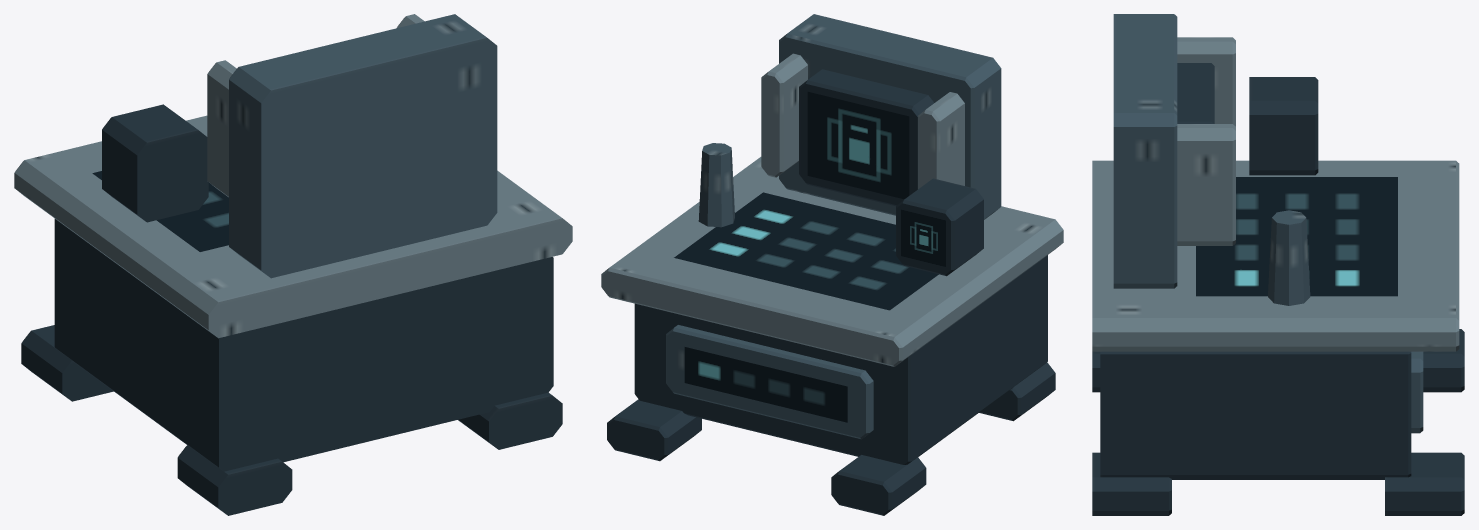
File: epp_service_station.obj
3 views of the same model, side by side, from view 1: azimuth 30°, elevation 25°; view 2: azimuth 150°, elevation 25°; view 3: azimuth 270°, elevation 25° (orthographic). The views are drawn at different scales.
Parts seen in each view (by area): view 1: tool_base, equipment_backboard, service_deck, diagnostic_pod, foot_1_12, foot_12_12, foot_1_1, charging_clamp_3_6, service_mat; view 2: service_deck, tool_base, service_mat, equipment_backboard, pack_wiring_schematic, lower_tool_drawer, tool_markers, backpack_dock, diagnostic_pod, charging_clamp_11_3, foot_1_1, foot_12_1 (+4 smaller); view 3: tool_base, service_deck, service_mat, equipment_backboard, charging_clamp_11_3, diagnostic_pod, foot_12_1, probe_holder, foot_12_12, charging_clamp_3_6, backpack_dock, foot_1_1 (+1 smaller).
Part boxes in pixels (x1=…): tool_base: x1=54, y1=219, x2=553, y2=471; equipment_backboard: x1=229, y1=14, x2=497, y2=278; service_deck: x1=14, y1=115, x2=572, y2=338; diagnostic_pod: x1=102, y1=104, x2=208, y2=222; foot_1_12: x1=177, y1=445, x2=292, y2=515; foot_12_12: x1=458, y1=392, x2=562, y2=449; foot_1_1: x1=21, y1=325, x2=113, y2=401; charging_clamp_3_6: x1=207, y1=60, x2=236, y2=197; service_mat: x1=92, y1=171, x2=228, y2=251; service_deck: x1=601, y1=157, x2=1063, y2=366; tool_base: x1=634, y1=255, x2=1047, y2=464; service_mat: x1=674, y1=192, x2=938, y2=310; equipment_backboard: x1=779, y1=14, x2=1001, y2=219; pack_wiring_schematic: x1=807, y1=91, x2=909, y2=199; lower_tool_drawer: x1=666, y1=325, x2=873, y2=439; tool_markers: x1=684, y1=347, x2=847, y2=422; backpack_dock: x1=799, y1=69, x2=933, y2=206; diagnostic_pod: x1=896, y1=178, x2=983, y2=276; charging_clamp_11_3: x1=761, y1=53, x2=807, y2=177; foot_1_1: x1=831, y1=455, x2=926, y2=515; foot_12_1: x1=607, y1=399, x2=701, y2=461; tool_base: x1=1100, y1=351, x2=1411, y2=479; service_deck: x1=1092, y1=160, x2=1459, y2=351; service_mat: x1=1196, y1=177, x2=1397, y2=296; equipment_backboard: x1=1113, y1=14, x2=1177, y2=288; charging_clamp_11_3: x1=1177, y1=124, x2=1235, y2=245; diagnostic_pod: x1=1249, y1=77, x2=1318, y2=175; foot_12_1: x1=1385, y1=452, x2=1464, y2=515; probe_holder: x1=1268, y1=210, x2=1310, y2=305; foot_12_12: x1=1092, y1=452, x2=1171, y2=515; charging_clamp_3_6: x1=1177, y1=37, x2=1235, y2=126; backpack_dock: x1=1177, y1=63, x2=1214, y2=123; foot_1_1: x1=1423, y1=329, x2=1464, y2=392.
Size of the model in its own units: 0.925 by 0.9812 by 0.875.
